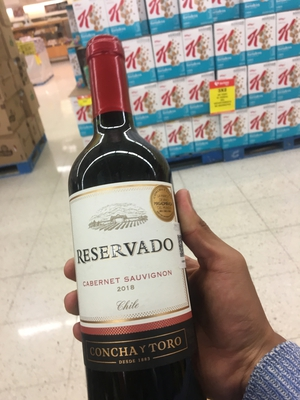reservado cabernet sauvignon: (61, 49, 199, 399)
